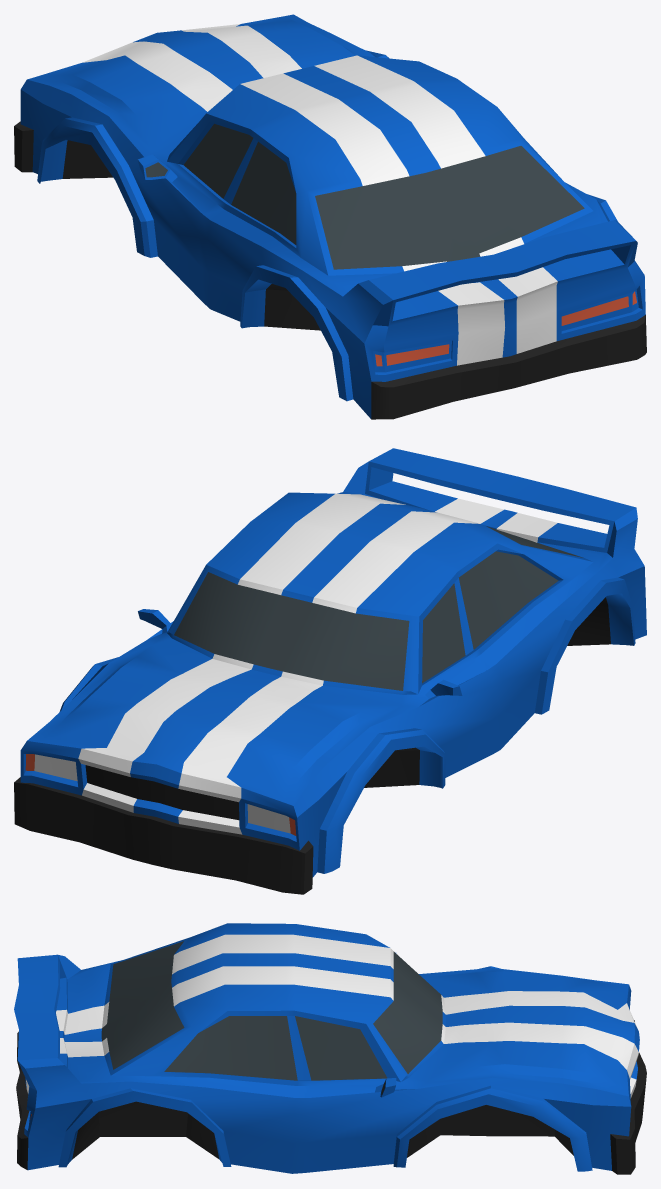
Rendered from sedan_body.glb.
3 renders of one model, top to bottom at view 1: azimuth 30°, elevation 25°; view 2: azimuth 150°, elevation 25°; view 3: azimuth 270°, elevation 25°, orthographic. The views are drawn at different scales.
Visible parts, largest first — view 1: sedan_body; view 2: sedan_body; view 3: sedan_body.
Boxes of the visible parts, bbox=[...] form: sedan_body: bbox=[14, 14, 646, 419]; sedan_body: bbox=[14, 448, 646, 894]; sedan_body: bbox=[14, 923, 646, 1174].
Size of the model in its own units: 1.59 by 0.8538 by 3.15.
1 material, 1 textured.
